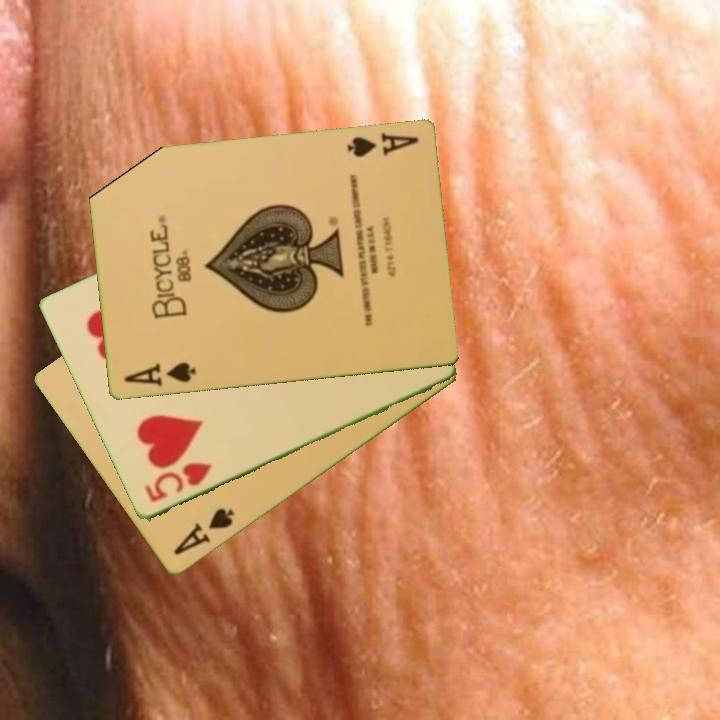5h: (141, 459, 215, 506)
As: (170, 505, 238, 559), (343, 129, 421, 161), (120, 359, 198, 390)
